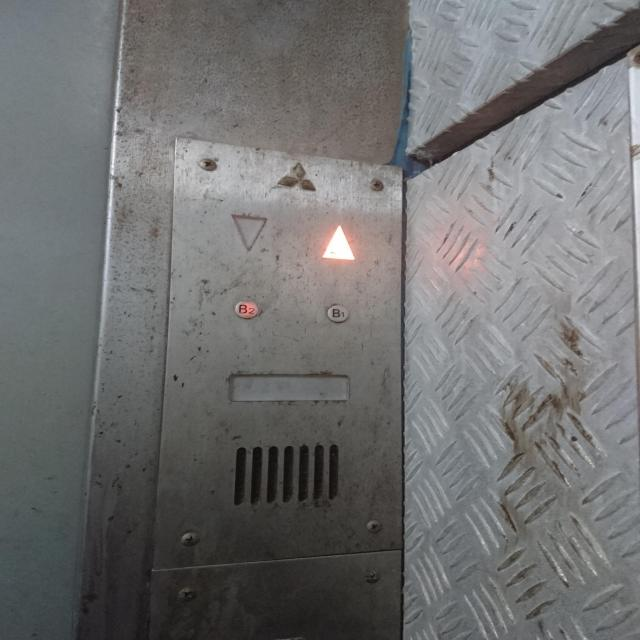B1: (325, 303, 350, 323)
B2: (233, 299, 260, 320)
